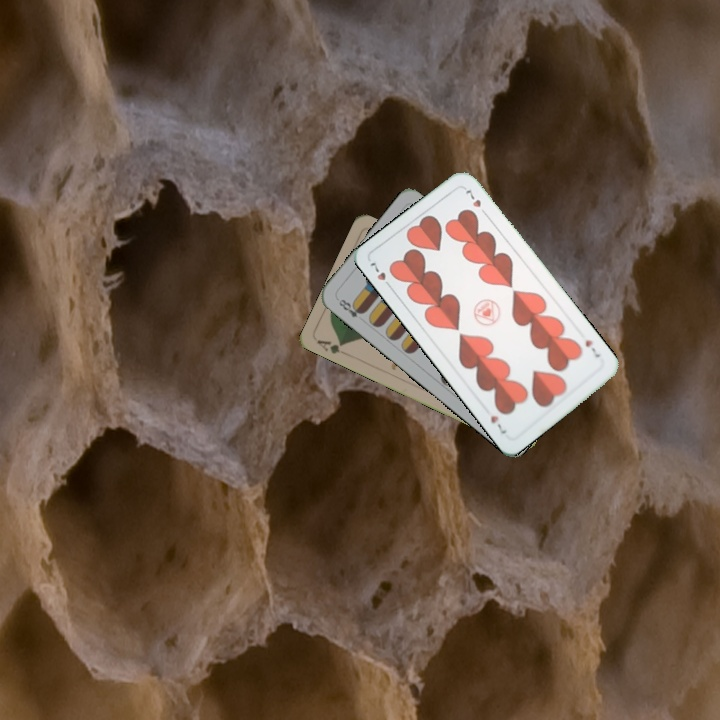E8: (333, 294, 367, 320)
GA: (313, 336, 347, 357)
H7: (366, 258, 395, 292), (581, 336, 603, 360)
